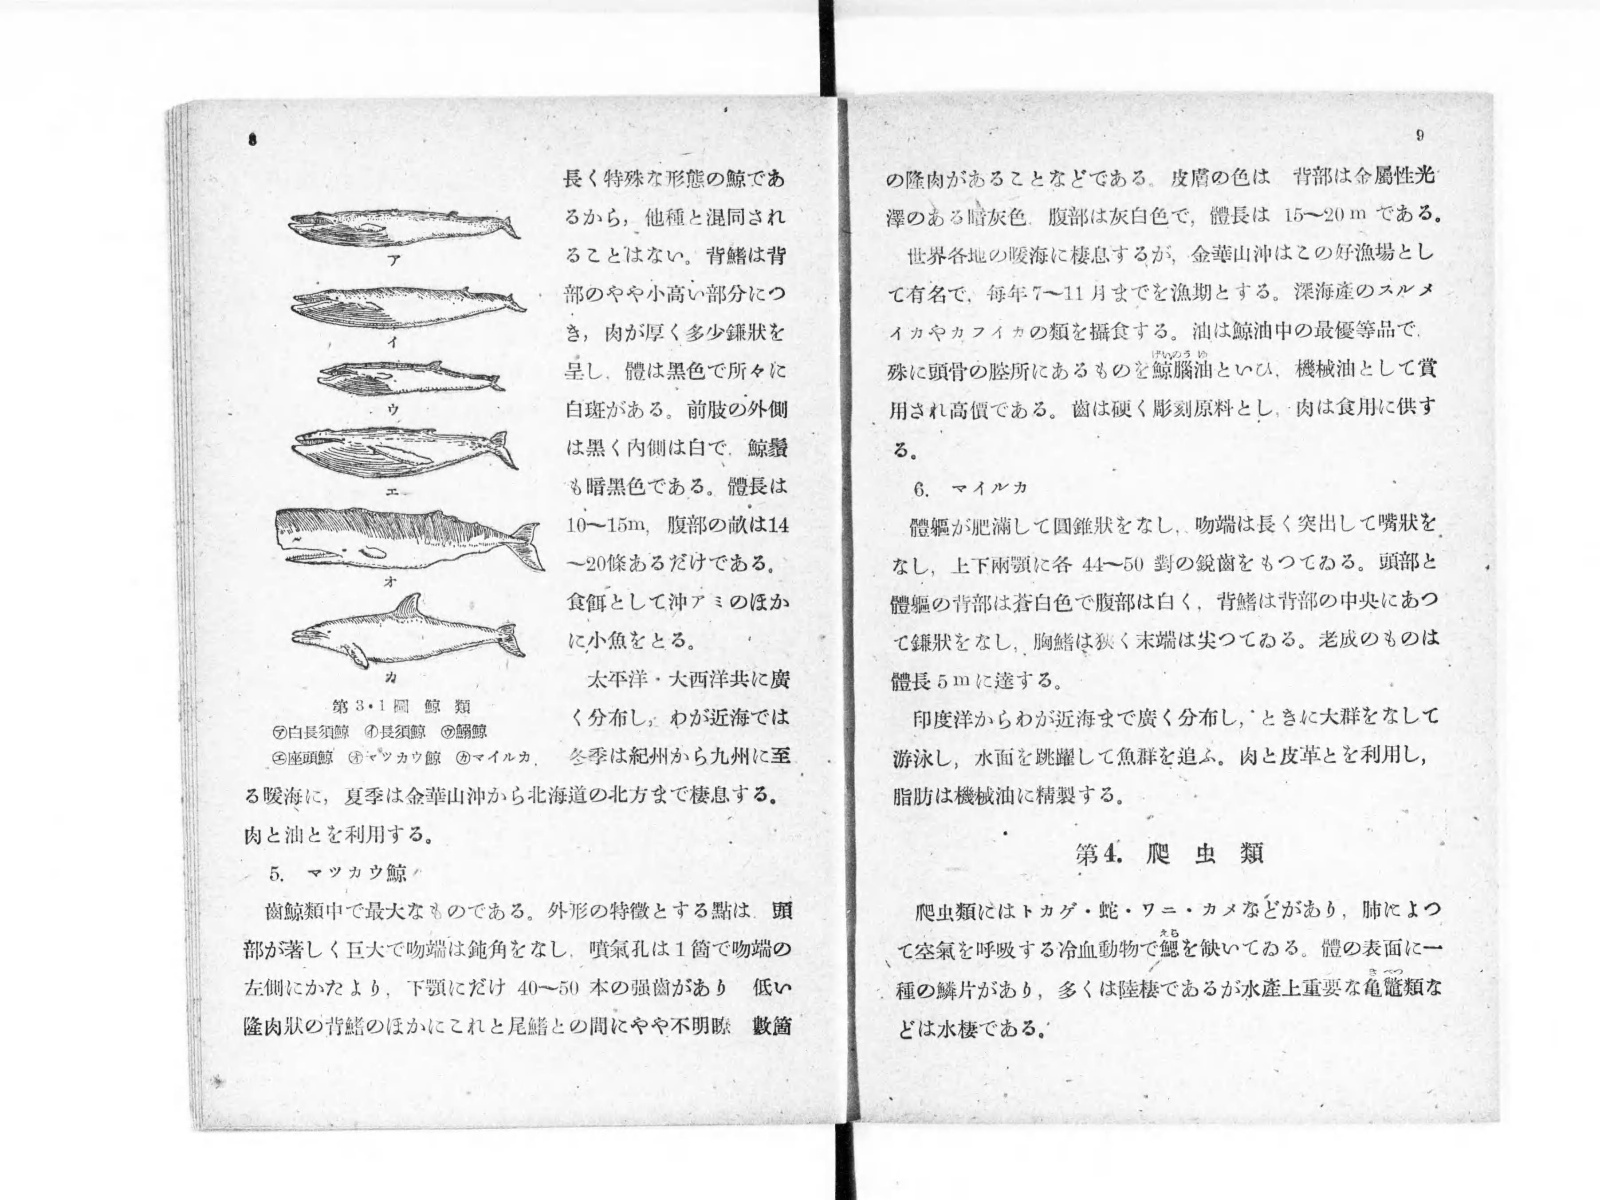1_overall: (174, 91, 1500, 1131)
4_illustration: (278, 508, 540, 576), (294, 597, 529, 671), (291, 285, 523, 339), (294, 427, 522, 479), (289, 204, 522, 253), (306, 357, 509, 396)
6_headline: (1081, 842, 1266, 866), (270, 865, 421, 884), (913, 482, 1024, 499)
7_caption: (271, 749, 542, 768), (272, 724, 485, 741), (330, 700, 469, 716)
8_textline: (896, 973, 1443, 1002), (898, 933, 1443, 962), (894, 629, 1439, 657), (894, 742, 1430, 770), (905, 512, 1437, 539), (891, 590, 1439, 616), (888, 358, 1435, 384), (888, 281, 1434, 308), (893, 552, 1437, 579), (898, 242, 1437, 268), (243, 938, 795, 963), (913, 706, 1437, 732), (244, 1015, 792, 1040), (891, 397, 1434, 422), (247, 784, 785, 809), (889, 319, 1416, 344), (886, 205, 1439, 229), (889, 166, 1434, 190), (266, 900, 791, 924), (920, 897, 1443, 921), (244, 977, 743, 1000), (564, 205, 787, 233), (894, 785, 1128, 809), (567, 592, 792, 616), (557, 746, 792, 769), (564, 361, 787, 384), (566, 321, 789, 345), (566, 245, 787, 268), (566, 553, 785, 577), (574, 707, 790, 731), (564, 284, 790, 306), (567, 516, 790, 538), (564, 169, 785, 190), (585, 669, 790, 692), (247, 824, 433, 846), (894, 671, 1060, 693), (567, 439, 734, 460), (900, 1018, 1048, 1040), (569, 478, 719, 498), (569, 632, 693, 652), (687, 401, 786, 420), (568, 402, 682, 418), (728, 476, 787, 498), (747, 978, 792, 1000), (748, 437, 787, 459), (1417, 130, 1437, 150), (894, 440, 915, 460), (241, 126, 258, 146)
